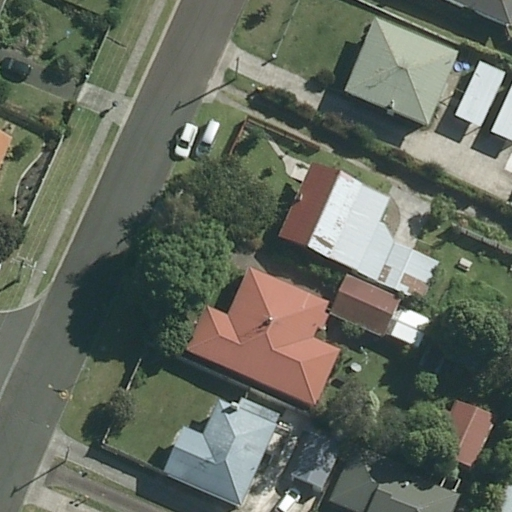DT: (10, 254, 36, 286)
